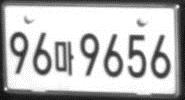5: (127, 34, 146, 78)
6: (102, 32, 123, 77), (150, 35, 171, 78), (32, 31, 52, 75)
9: (79, 32, 100, 75), (9, 31, 29, 74)
마: (54, 40, 74, 77)
